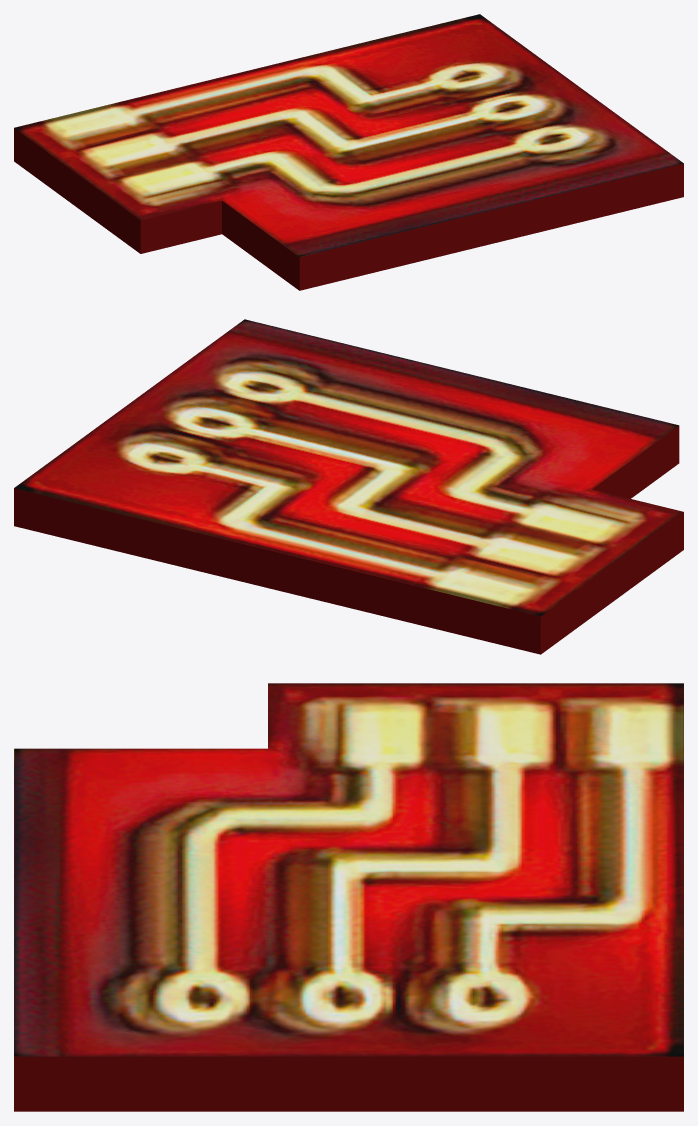
The model's file is static.glb.
The picture shows the model from 3 angles, top to bottom: view 1: azimuth 30°, elevation 25°; view 2: azimuth 150°, elevation 25°; view 3: azimuth 270°, elevation 25°; orthographic projection. The views are drawn at different scales.
Visible parts, largest first — view 1: Boole; view 2: Boole; view 3: Boole.
Part boxes in pixels (x1,y1,x2,y2): Boole: (14, 14, 683, 290); Boole: (14, 319, 683, 654); Boole: (14, 683, 683, 1111).
Size of the model in its own units: 0.9601 by 0.0662 by 0.7281.
Materials: 2 (2 with a texture image).
